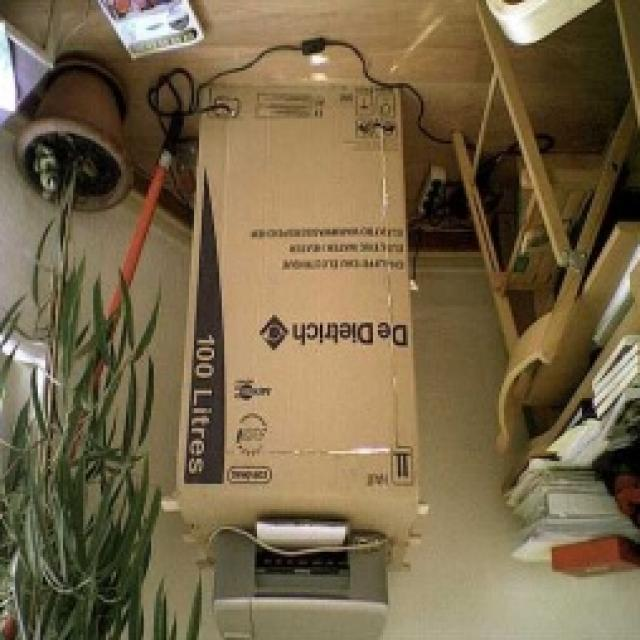box: (177, 103, 411, 550)
